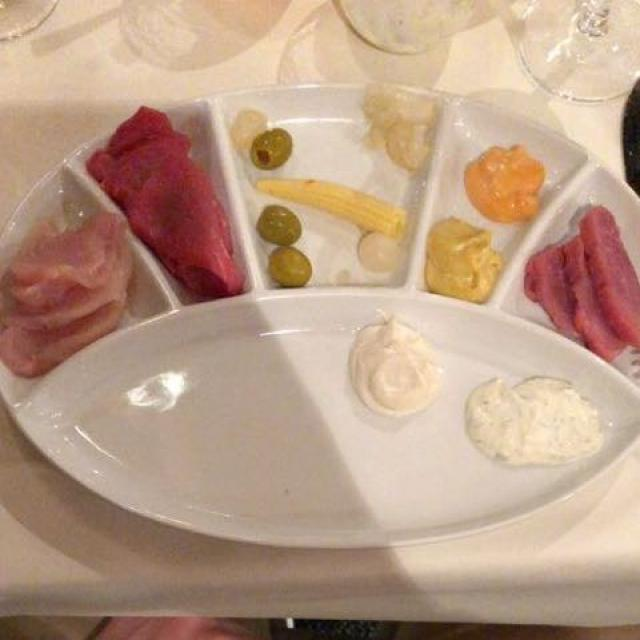corn: (257, 176, 407, 230)
mayonnaise: (335, 160, 618, 471)
onions: (349, 83, 439, 278)
pork: (519, 203, 634, 362)
